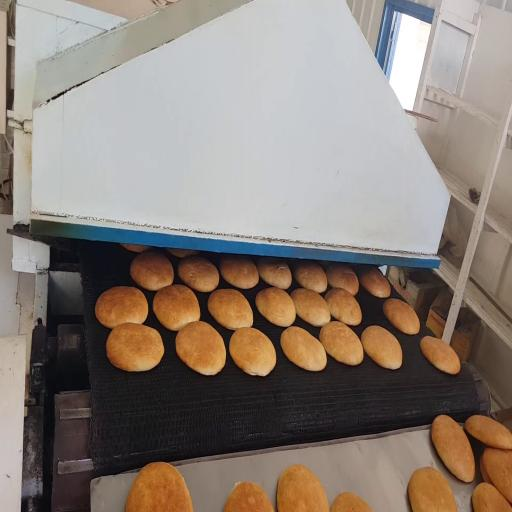bread: (126, 463, 193, 511), (431, 415, 475, 482), (107, 323, 164, 371), (176, 321, 226, 375), (277, 465, 329, 511), (95, 286, 148, 328), (230, 328, 276, 376), (153, 284, 200, 330), (408, 467, 457, 511), (281, 327, 326, 371), (320, 322, 363, 365), (208, 289, 253, 329), (361, 326, 402, 369), (130, 251, 173, 291), (465, 415, 511, 449), (256, 287, 295, 327), (420, 336, 460, 374), (483, 448, 511, 502), (291, 289, 330, 327), (178, 256, 219, 292), (224, 482, 273, 511), (325, 288, 361, 325), (219, 255, 258, 289), (383, 299, 420, 334), (472, 483, 511, 511), (326, 263, 359, 295), (258, 257, 291, 289), (294, 261, 327, 293), (359, 267, 390, 298), (331, 493, 372, 511), (479, 456, 491, 483), (167, 248, 198, 258), (120, 243, 150, 252)
